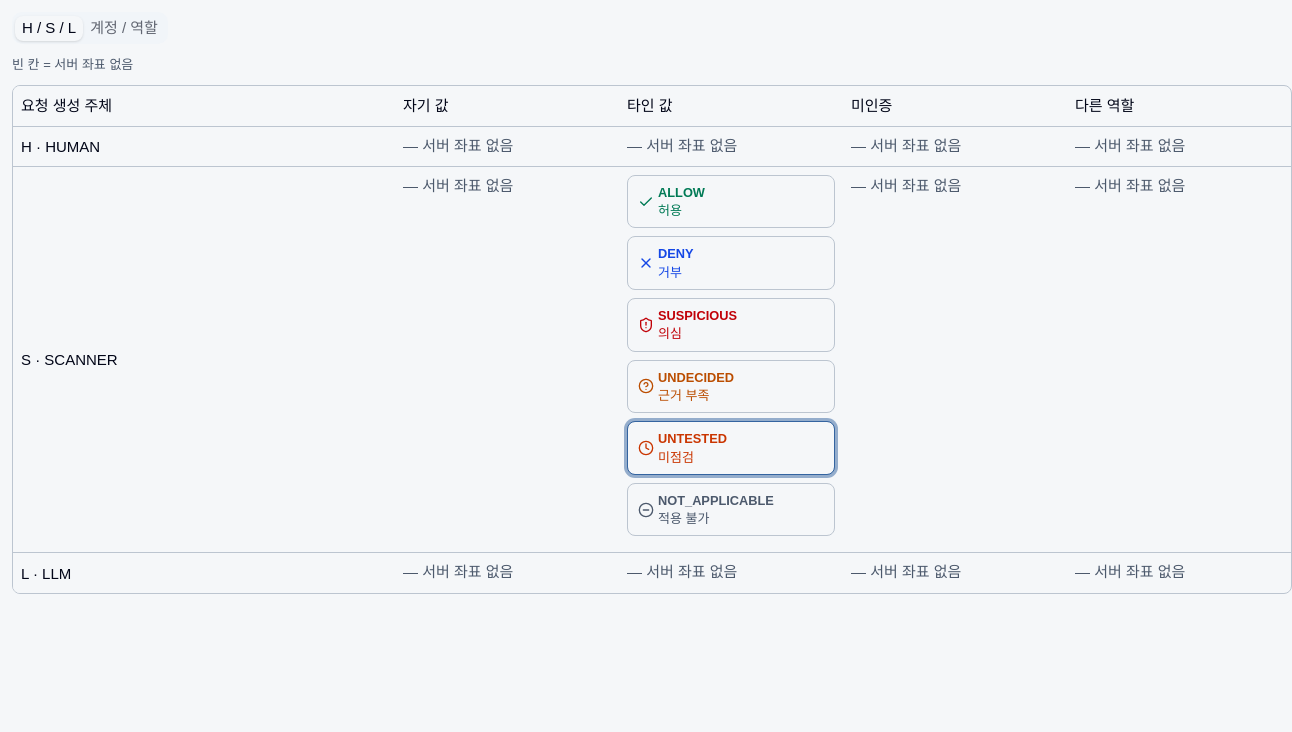
Scenario: keeps every server state accessible and actual 요청 기록 separate from bounded basis previews
The width and height of the screenshot is (1292, 732).
Expected: the column heading "자기 값" is shown, 395,86 -> 619,126
Expected: the column heading "타인 값" is shown, 619,86 -> 843,126
Press Enter
Click the tab "계정 / 역할" at (124,28), box 83,16 -> 165,40
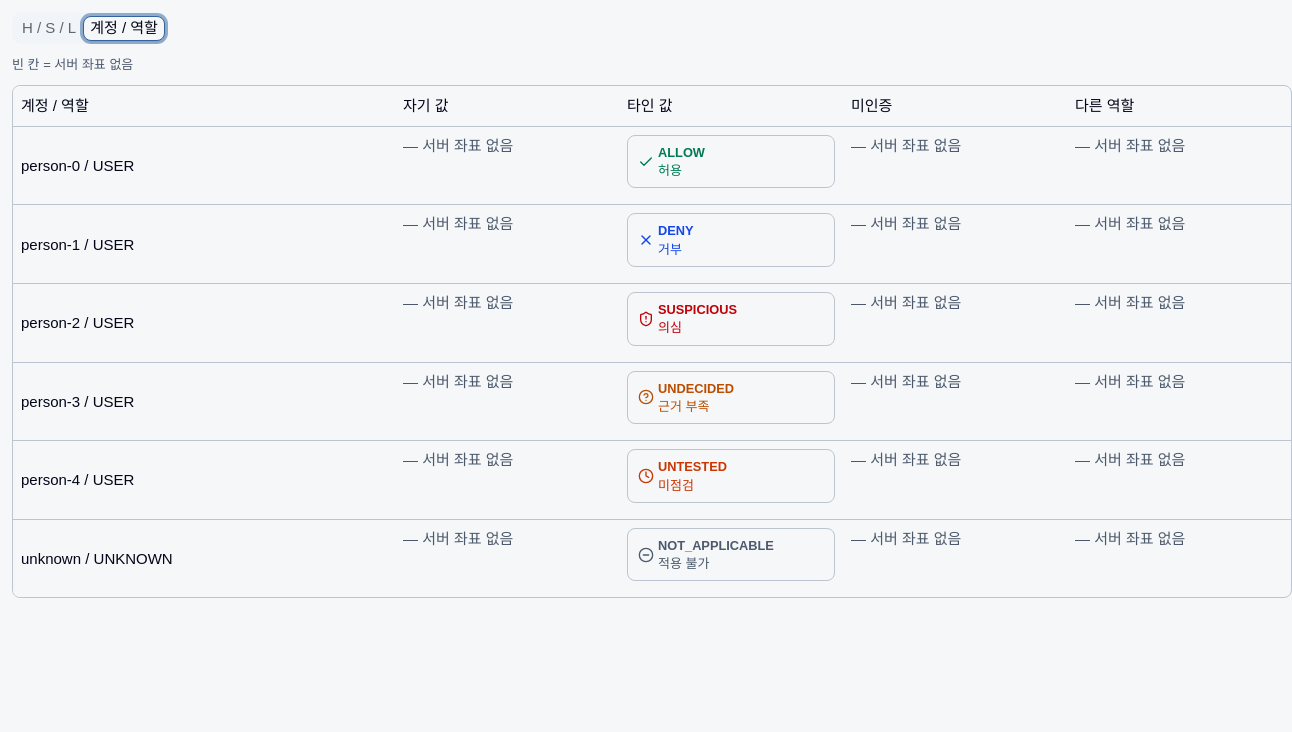
Expected: the column heading "person-4 / USER" is shown, 13,441 -> 395,519
